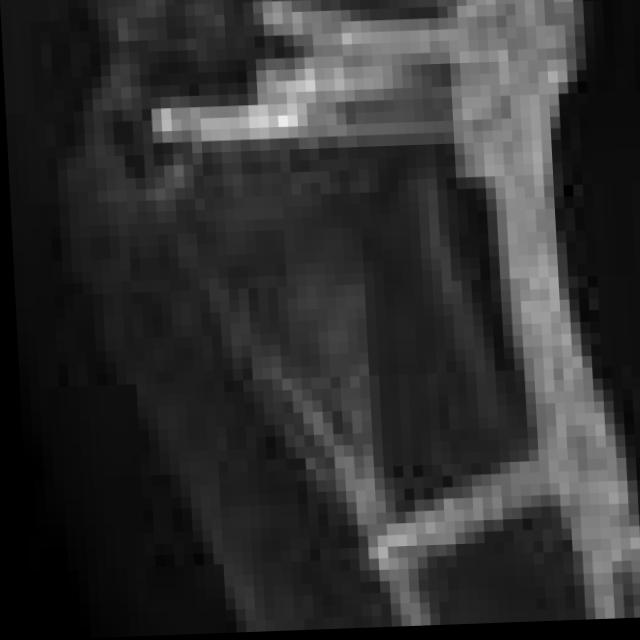fracture: (1, 0, 640, 616)
